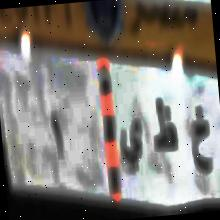1: (48, 101, 68, 164)
Thaa: (150, 90, 181, 158)
khaa: (186, 100, 216, 182)
yaa: (117, 113, 146, 180)
